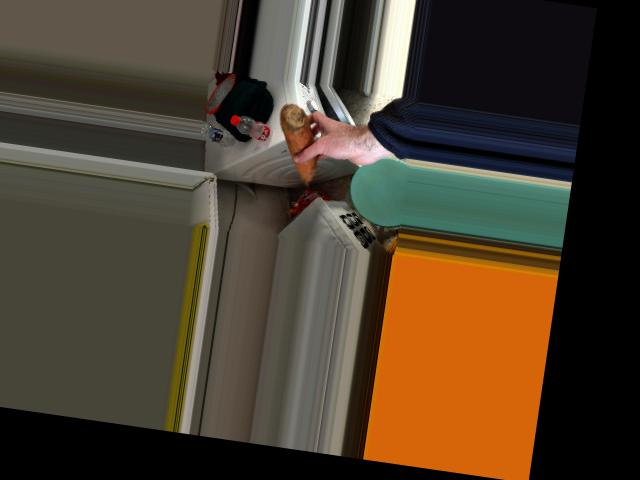sweet_potato: (268, 106, 331, 182)
